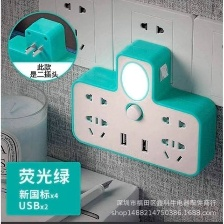three_eye_plug: (64, 31, 219, 179), (108, 0, 197, 111), (40, 0, 118, 80), (5, 14, 79, 85), (188, 14, 224, 111)
